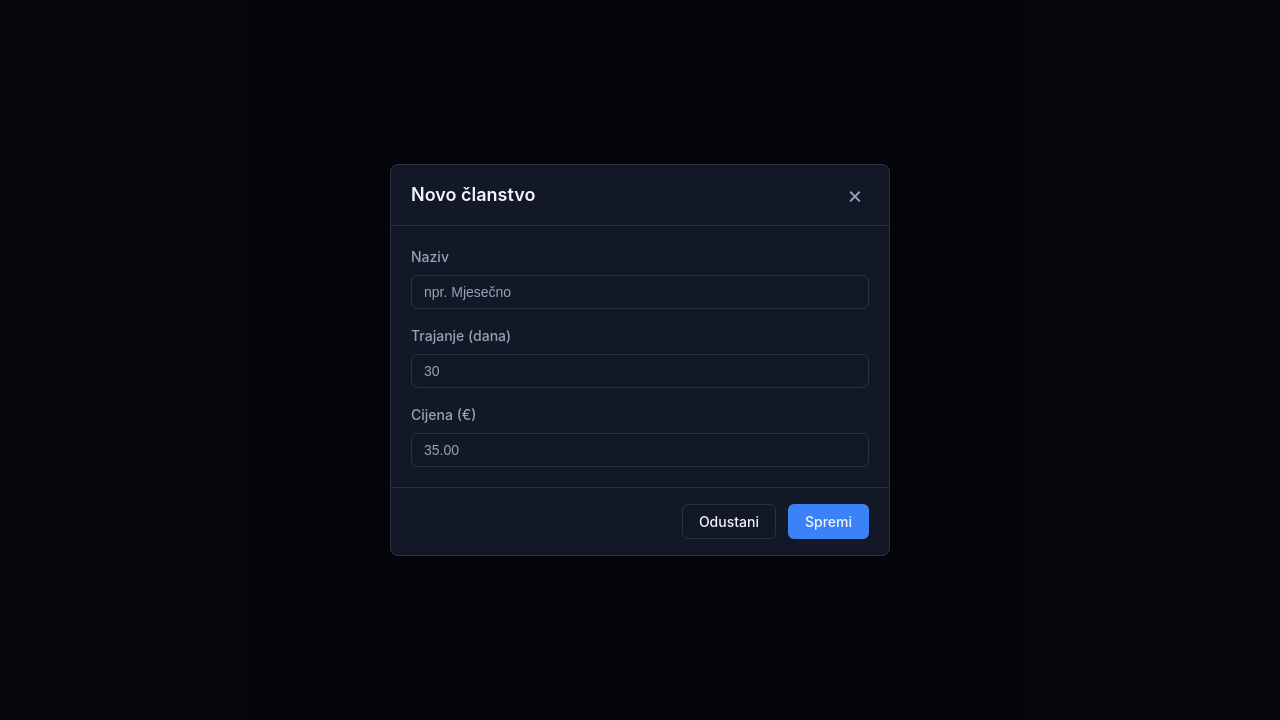
Test: Integracija: MembershipFormModal (presentation + validacija + DAL) › validacija ne dopusta submit s praznim poljima (business sloj blokira DAL)
Click the button "Spremi".
click(828, 522)  # box [788, 504, 869, 539]
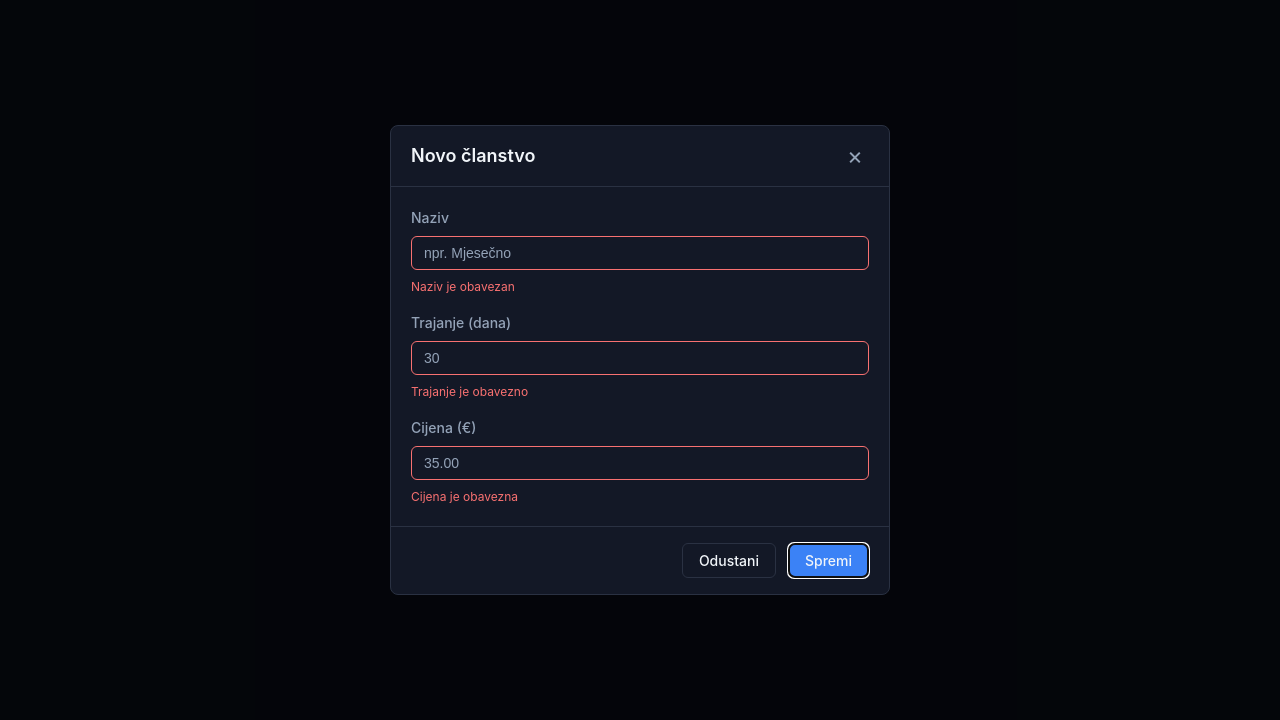
Now the text "Naziv je obavezan" is shown, box [411, 279, 515, 294]
Now the text "Trajanje je obavezno" is shown, box [411, 384, 528, 399]
Now the text "Cijena je obavezna" is shown, box [411, 489, 518, 504]
